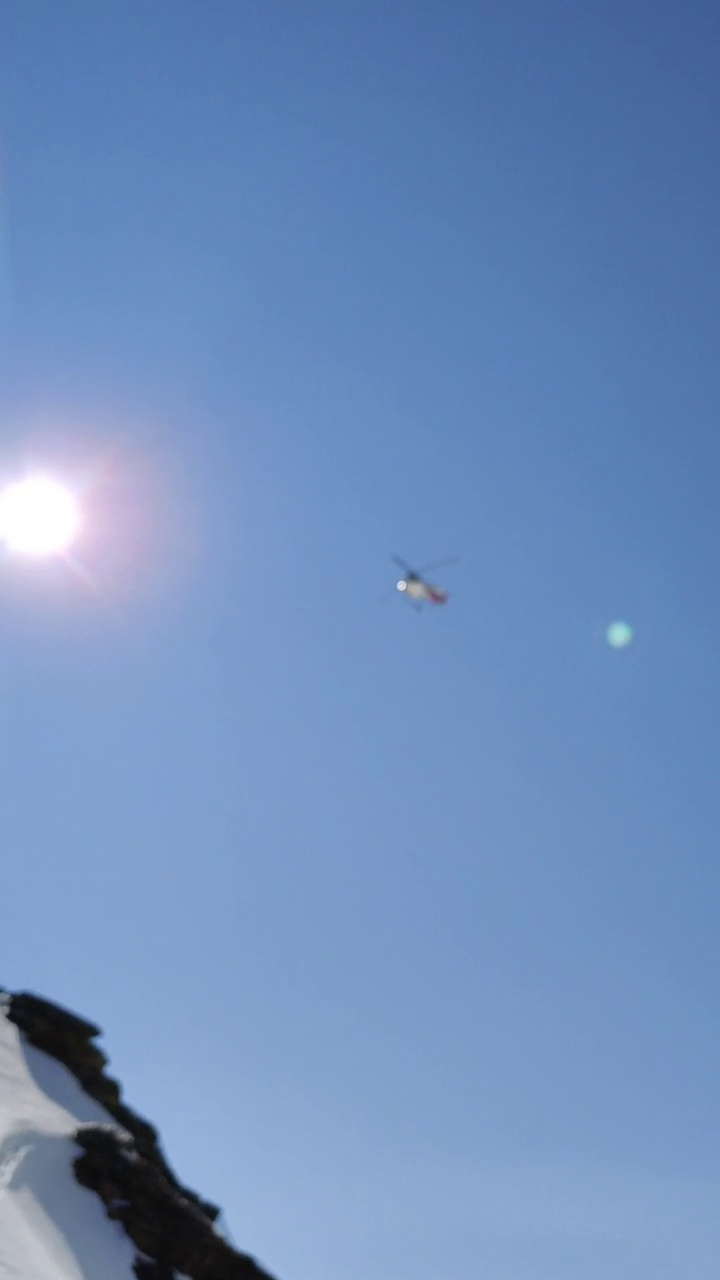heli: (387, 548, 460, 616)
